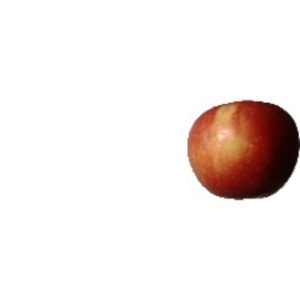maçã braeburn: (182, 98, 299, 201)
